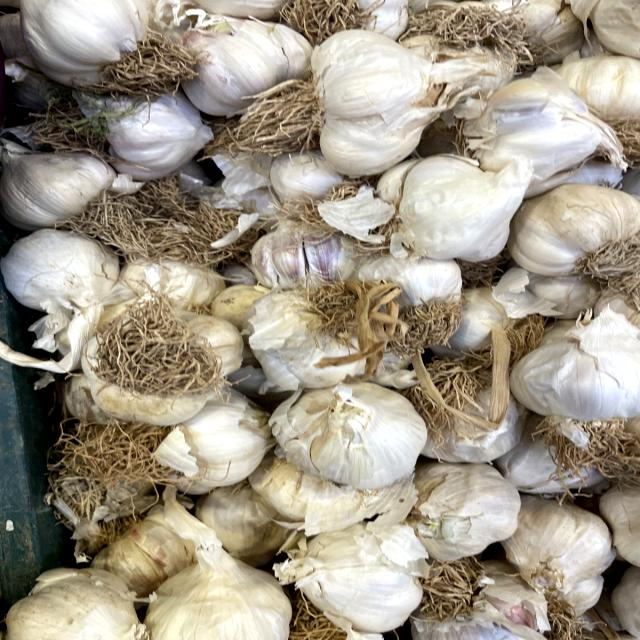garlic: (269, 368, 440, 493), (377, 142, 543, 262)
